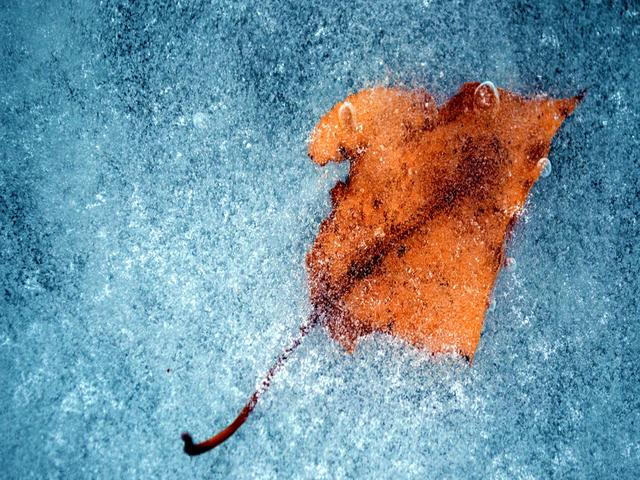fish: (150, 34, 579, 480)
